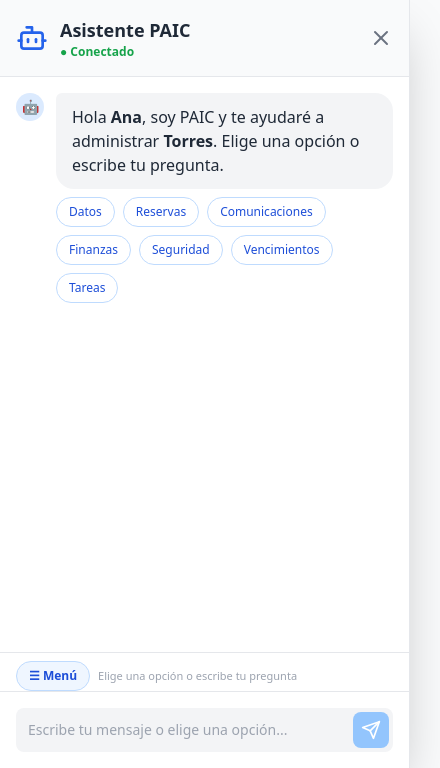
it: Chatbot › opens the add resident form when the Agregar action chip is tapped
This screenshot has width=440, height=768.
What coordinates should you click on to do the following:
click the button "Datos"
I would click on:
 (85, 212)
Its box is [56,197,115,227].
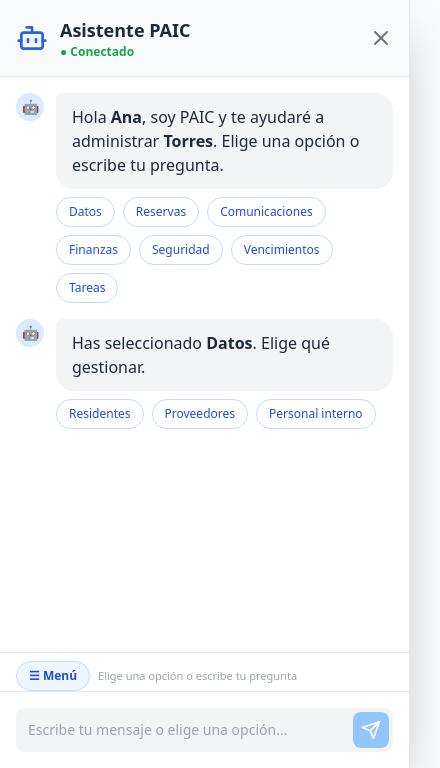
What coordinates should you click on to do the following:
click the button "Residentes"
I would click on:
 (100, 414)
Its box is [56,399,144,429].
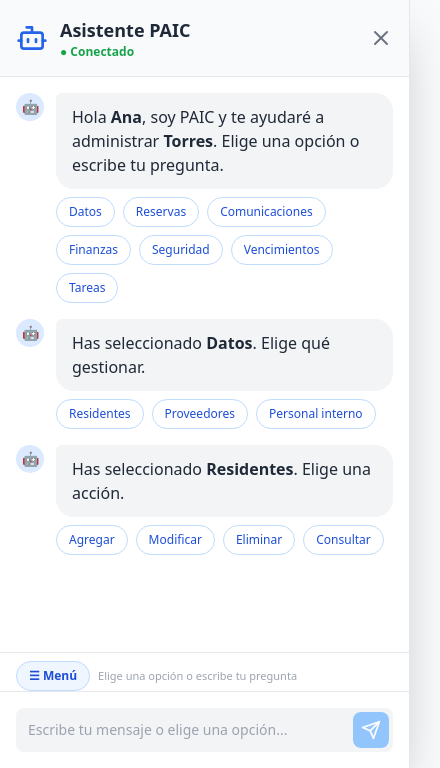
What coordinates should you click on to do the following:
click the button "Agregar"
I would click on:
 (92, 540)
Its box is [56,525,128,555].
(page scrolled)
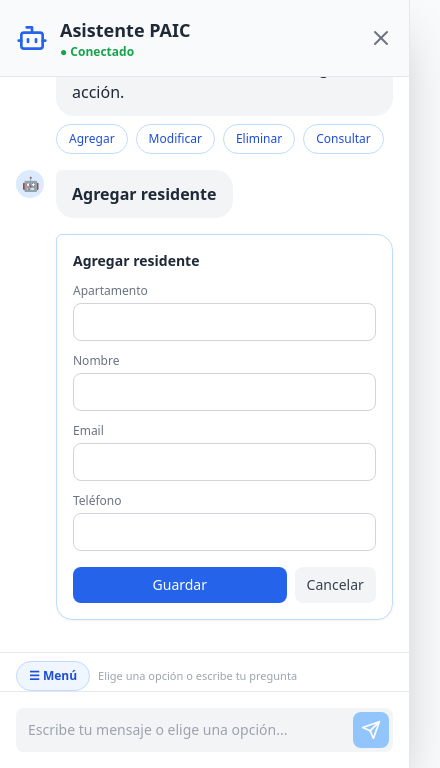
Now the field with test id "form-field-apartment" is shown, box [73,303,376,341]
Now the button with test id "form-submit" is shown, box [73,567,287,603]
